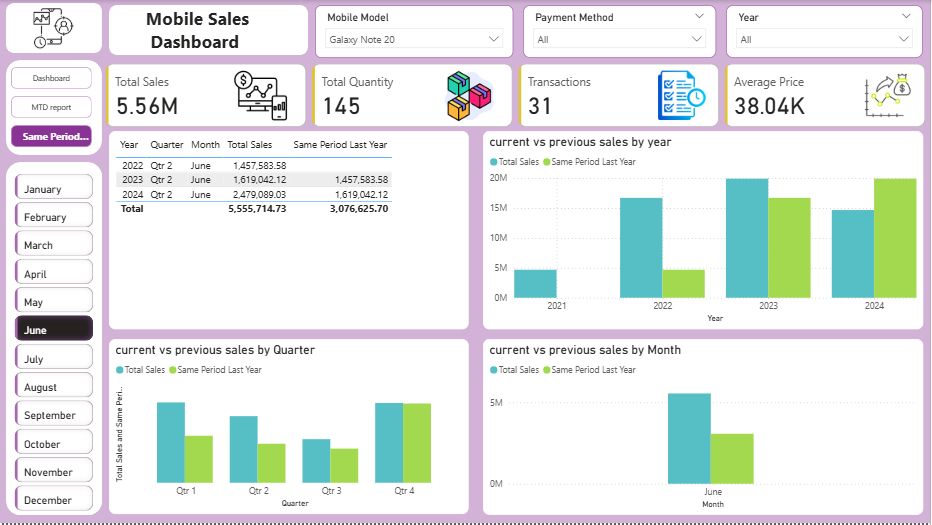

What the dashboard file says about the page in this screenshot:
{"tool":"powerbi","page":{"name":"Same Period Last Year","canvas":[1280,720],"ordinal":2},"visuals":[{"type":"shape","box":[8.3,4.1,132.1,68.8],"z":0},{"type":"shape","box":[8.3,82.6,132.1,130.8],"z":1000},{"type":"shape","box":[8.5,222.7,132.5,486.3],"z":2000},{"type":"image","box":[41.3,5.5,64.7,67.4],"z":3000},{"type":"cardVisual","fields":{"Data":["_measures.Total Sales","_measures.Total Quantity","_measures.Total Transactions","_measures.Average Price"]},"box":[140.4,82.6,1139.6,97.7],"z":4000},{"type":"image","box":[293.2,88.1,130.8,86.7],"z":5000},{"type":"image","box":[580.8,92.2,129.4,79.8],"z":6000},{"type":"image","box":[846.5,92.2,183.1,78.5],"z":7000},{"type":"image","box":[1164.4,95,115.6,72.9],"z":8000},{"type":"slicer","fields":{"Values":["sale_data.Mobile Model"]},"box":[433.5,6.9,272.5,72.9],"z":9000},{"type":"slicer","fields":{"Values":["sale_data.Payment Method"]},"box":[719.8,6.9,265.6,72.9],"z":10000},{"type":"slicer","fields":{"Values":["Date.Date.Variation.Date Hierarchy.Year"]},"box":[999.2,6.9,271.1,72.9],"z":11000},{"type":"shape","box":[150,6.9,273.9,68.8],"z":12000},{"type":"textbox","box":[195.4,2.8,253.2,79.8],"z":13000},{"type":"tableEx","fields":{"Values":["Date.Date.Variation.Date Hierarchy.Year","Date.Date.Variation.Date Hierarchy.Quarter","Date.Date.Variation.Date Hierarchy.Month","_measures.Total Sales","_measures.Same Period Last Year"]},"box":[150,180.3,495.5,272.5],"z":14000},{"type":"advancedSlicerVisual","fields":{"Values":["Date.Date.Variation.Date Hierarchy.Month"]},"box":[15.5,234,118.4,475.1],"z":15000},{"type":"clusteredColumnChart","title":"current  vs previous sales by year","fields":{"Y":["_measures.Total Sales","_measures.Same Period Last Year"],"Category":["Date.Date.Variation.Date Hierarchy.Year"]},"box":[664.8,180.3,605.6,272.5],"z":16000},{"type":"clusteredColumnChart","title":"current vs previous sales by Month","fields":{"Y":["_measures.Total Sales","_measures.Same Period Last Year"],"Category":["Date.Date.Variation.Date Hierarchy.Month"]},"box":[664.8,466.6,605.6,242.2],"z":17000},{"type":"clusteredColumnChart","title":"current vs previous sales by Quarter","fields":{"Y":["_measures.Total Sales","_measures.Same Period Last Year"],"Category":["Date.Date.Variation.Date Hierarchy.Quarter"]},"box":[150,466.6,495.5,240.9],"z":18000},{"type":"pageNavigator","box":[15.1,92.2,111.5,110.1],"z":19000}]}

Visuals, with their boxes in screenshot pixels (x1, y1, x2, y2), scaled from the page's 1280x720 canvas onto the 932x525 screenshot:
shape: <box>6,3,102,53</box>
shape: <box>6,60,102,156</box>
shape: <box>6,162,103,517</box>
image: <box>30,4,77,53</box>
cardVisual - _measures.Total Sales x _measures.Total Quantity: <box>102,60,931,131</box>
image: <box>213,64,309,127</box>
image: <box>423,67,517,125</box>
image: <box>616,67,750,124</box>
image: <box>848,69,931,122</box>
slicer - sale_data.Mobile Model: <box>316,5,514,58</box>
slicer - sale_data.Payment Method: <box>524,5,717,58</box>
slicer - Date.Date.Variation.Date Hierarchy.Year: <box>728,5,925,58</box>
shape: <box>109,5,309,55</box>
textbox: <box>142,2,327,60</box>
tableEx - Date.Date.Variation.Date Hierarchy.Year x Date.Date.Variation.Date Hierarchy.Quarter: <box>109,131,470,330</box>
advancedSlicerVisual - Date.Date.Variation.Date Hierarchy.Month: <box>11,171,97,517</box>
"current  vs previous sales by year" clusteredColumnChart: <box>484,131,925,330</box>
"current vs previous sales by Month" clusteredColumnChart: <box>484,340,925,517</box>
"current vs previous sales by Quarter" clusteredColumnChart: <box>109,340,470,516</box>
pageNavigator: <box>11,67,92,148</box>
